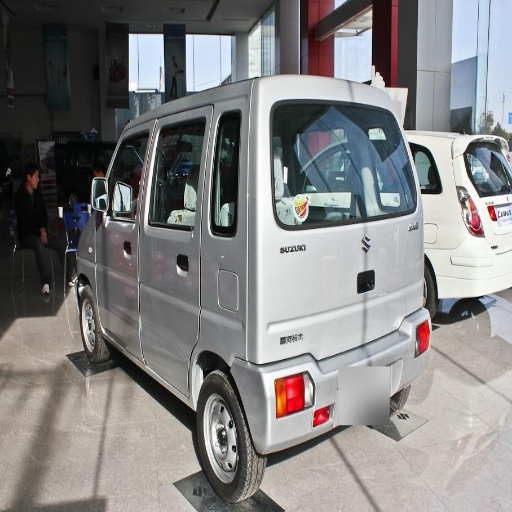back_bumper: (264, 355, 353, 451)
back_glass: (271, 101, 402, 195)
back_left_door: (352, 169, 418, 313)
trunk: (154, 231, 358, 443)
